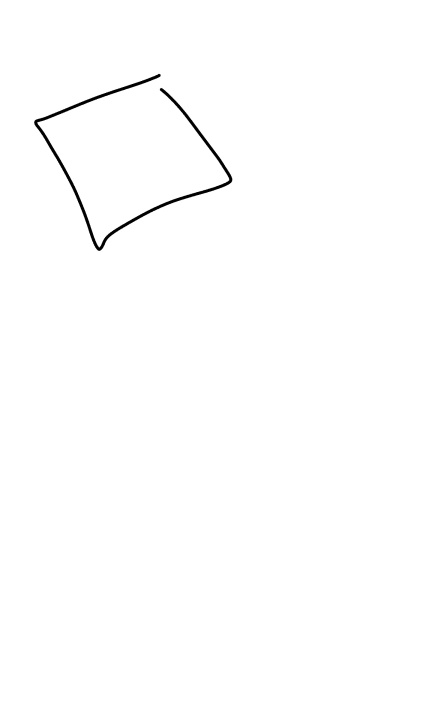Square: (26, 67, 238, 256)
